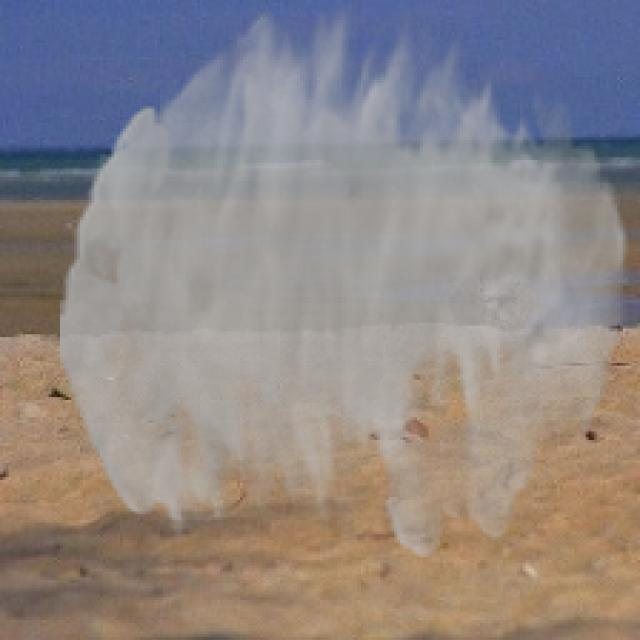Smoke: (60, 5, 629, 558)
